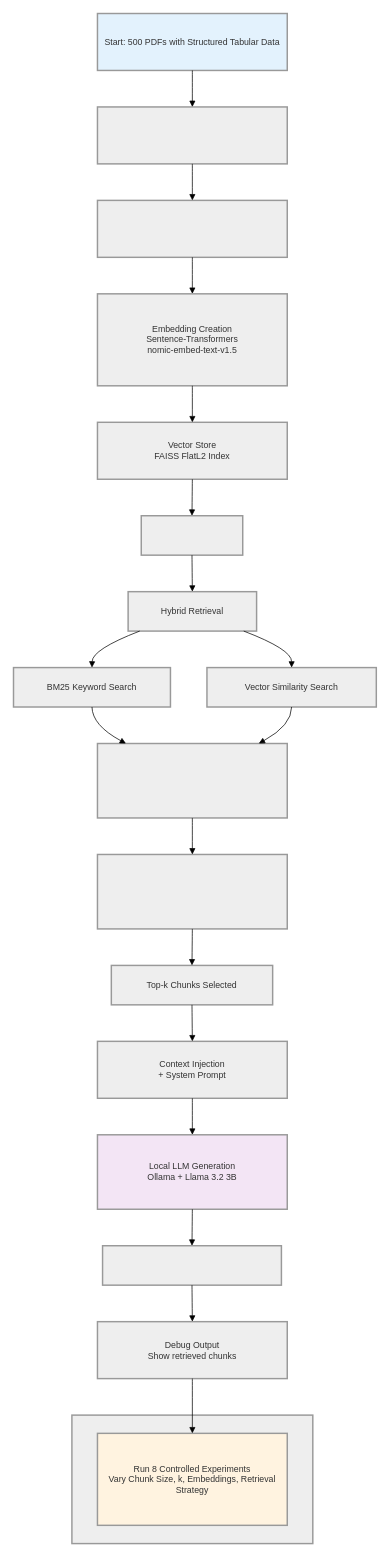
Image size: 389x1556. Some labels were removed from this diagram. The centre of each missing label's shape, as x and y in pixels:
"Chunking Fixed character size 400 to 1500 chars" belongs at (x=192, y=228).
"Combine Candidates Remove Duplicates" belongs at (x=192, y=780).
"Cross-Encoder Reranker ms-marco-MiniLM-L-6-v2" belongs at (x=192, y=891).
"Output: Answer + Latency" belongs at (x=191, y=1265).
"PDF Text Extraction PyPDF2" belongs at (x=192, y=135).
"User Query" belongs at (x=191, y=535).
